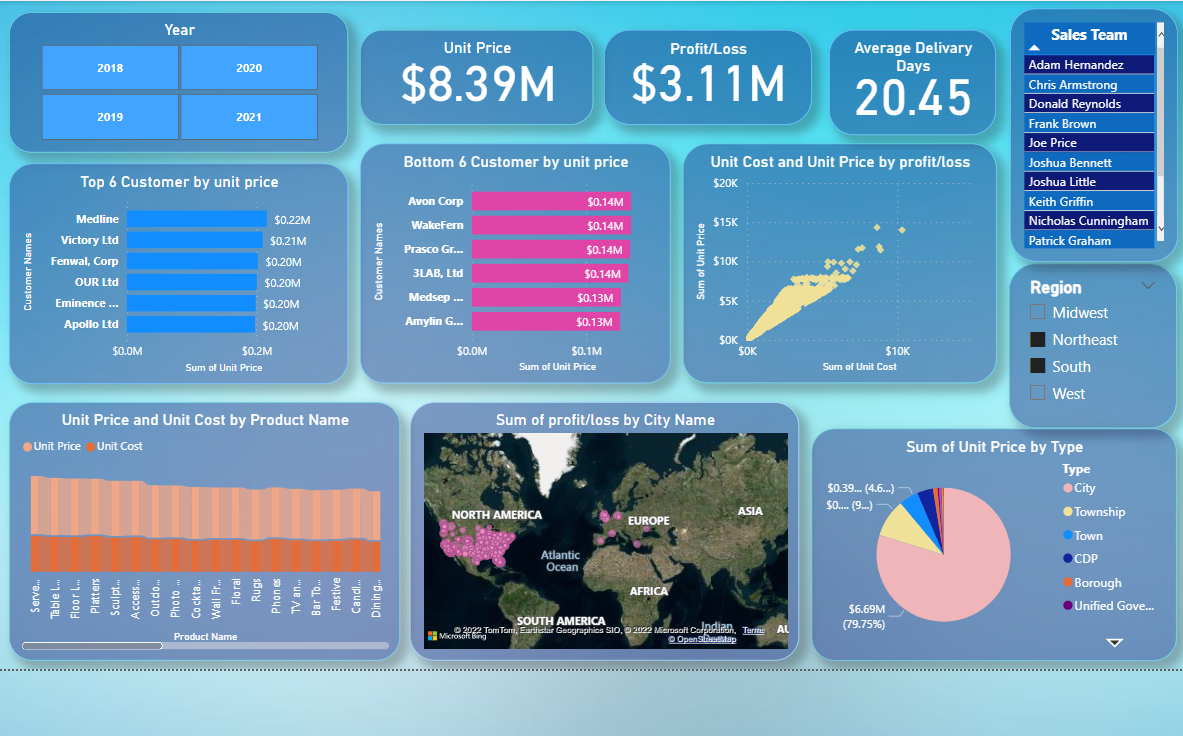

What the dashboard file says about the page in this screenshot:
{"tool":"powerbi","page":{"name":"Page 1","canvas":[1280,720],"ordinal":0},"visuals":[{"type":"card","title":"Unit Price","fields":{"Values":["Sales.Unit Price"]},"box":[388.9,31.4,251.1,102.3],"z":0},{"type":"slicer","title":"Year","fields":{"Values":["Sales.year"]},"box":[10.9,12.3,365.7,151.5],"z":1000},{"type":"barChart","title":"Top 6 Customer by unit price","fields":{"Category":["Customers.Customer Names"],"Y":["Sales.Unit Price"]},"box":[10.9,174.7,365.7,237.4],"z":2000},{"type":"map","fields":{"Category":["Locations.City Name"],"Size":["Sales.profit/loss"]},"box":[443.5,432.6,418.9,278.4],"z":3000},{"type":"barChart","title":"Bottom 6 Customer by unit price","fields":{"Category":["Customers.Customer Names"],"Y":["Sales.Unit Price"]},"box":[389.4,153.6,334.1,258.7],"z":4000},{"type":"card","title":"Profit/Loss","fields":{"Values":["Sales.profit/loss"]},"box":[652.3,31.4,223.8,102.3],"z":5000},{"type":"card","title":"Average Delivary Days","fields":{"Values":["Sales.Delivery days"]},"box":[895.2,31.4,180.1,113.3],"z":6000},{"type":"slicer","fields":{"Values":["Sales_Team.Region"]},"box":[1088.7,282.9,180.5,177.9],"z":7000},{"type":"pivotTable","fields":{"Rows":["Sales_Team.Sales Team"]},"box":[1089.7,8.2,180.7,272.4],"z":8000},{"type":"pieChart","fields":{"Y":["Sales.Unit Price"],"Category":["Locations.Type"]},"box":[875.8,460.8,393.4,250.6],"z":9000},{"type":"ribbonChart","fields":{"Y":["Sales.Unit Price","Sales.Unit Cost"],"Category":["Products.Product Name"]},"box":[10.8,432.5,421.7,278.4],"z":10000},{"type":"scatterChart","title":"Unit Cost and Unit Price by profit/loss","fields":{"X":["Sales.Unit Cost"],"Y":["Sales.Unit Price"],"Category":["Sales.profit/loss"]},"box":[737,153.6,338.2,258.7],"z":11000}]}

Visuals, with their boxes on the page's 1280x720 design canvas (x1, y1, x2, y2). These are canvas units, not pixel positions in the 1183x736 screenshot, which may show the page scaled, cropped or inside an application window:
"Unit Price" card: 389/31/640/134
"Year" slicer: 11/12/377/164
"Top 6 Customer by unit price" barChart: 11/175/377/412
map - Locations.City Name x Sales.profit/loss: 444/433/862/711
"Bottom 6 Customer by unit price" barChart: 389/154/724/412
"Profit/Loss" card: 652/31/876/134
"Average Delivary Days" card: 895/31/1075/145
slicer - Sales_Team.Region: 1089/283/1269/461
pivotTable - Sales_Team.Sales Team: 1090/8/1270/281
pieChart - Sales.Unit Price x Locations.Type: 876/461/1269/711
ribbonChart - Sales.Unit Price x Sales.Unit Cost: 11/432/432/711
"Unit Cost and Unit Price by profit/loss" scatterChart: 737/154/1075/412
